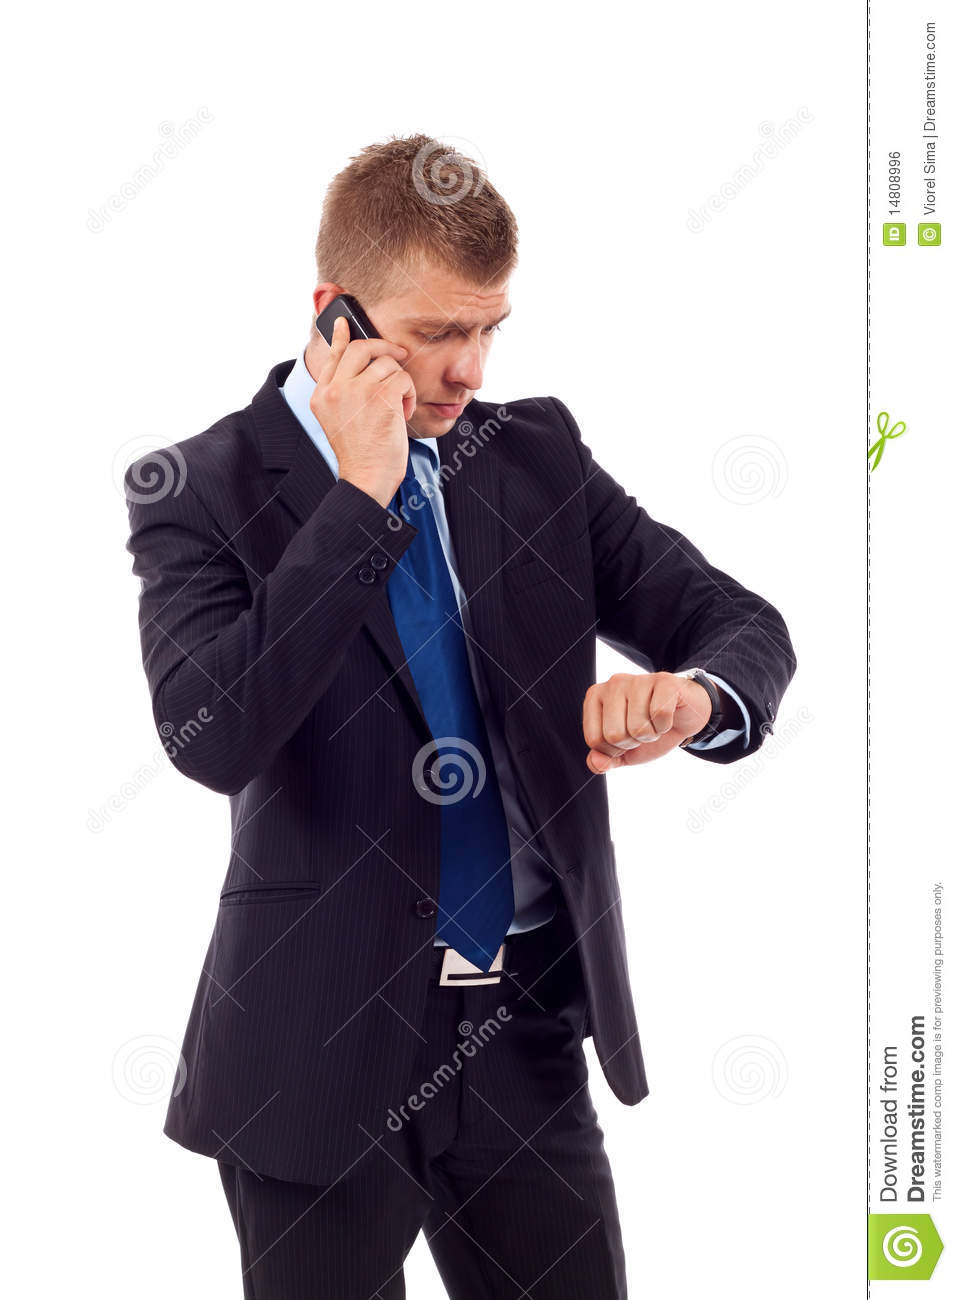phone: (315, 299, 390, 388)
talk: (306, 273, 508, 511)
